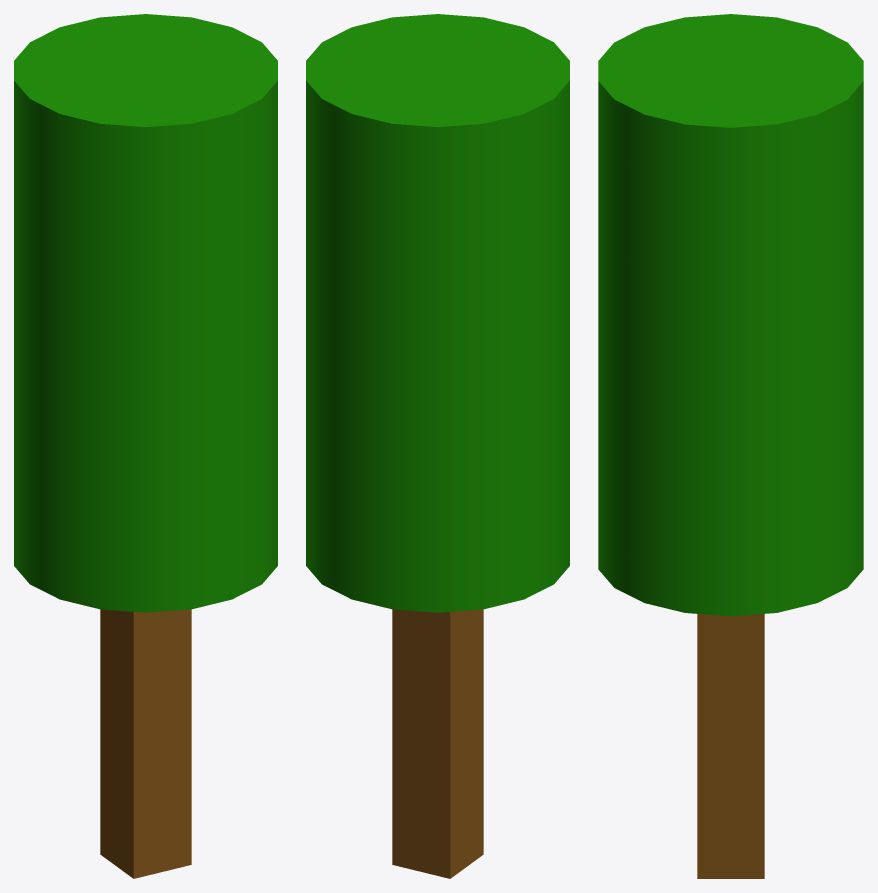
The model's file is DoodadTree2.FBX.
The picture shows the model from 3 angles, left to right: view 1: azimuth 30°, elevation 25°; view 2: azimuth 150°, elevation 25°; view 3: azimuth 270°, elevation 25°; orthographic projection.
Visible parts, largest first — view 1: Cylinder001; view 2: Cylinder001; view 3: Cylinder001.
Boxes of the visible parts, <box> form: Cylinder001: <box>14,14,277,878</box>; Cylinder001: <box>306,14,569,878</box>; Cylinder001: <box>598,14,863,878</box>.
Bounding box in the file's own units: 20 × 65 × 19.7.
